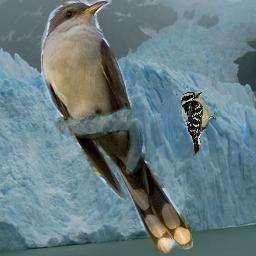Cuckoo: (41, 0, 193, 254)
Woodpecker: (180, 90, 220, 156)
